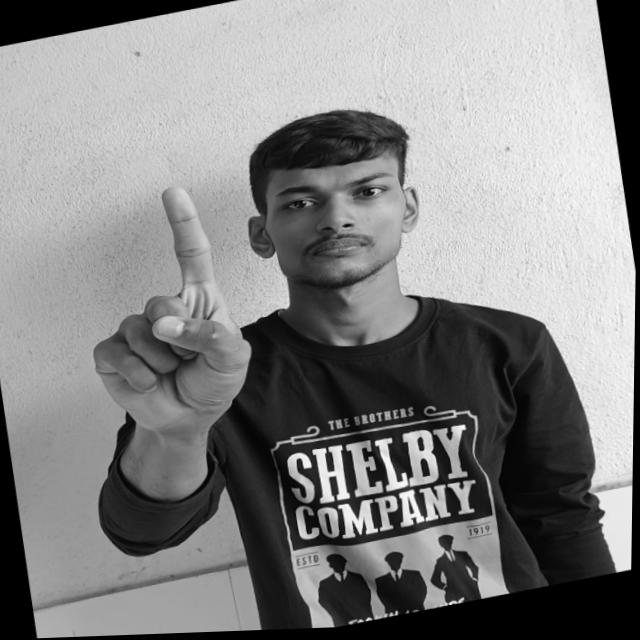Question: (62, 174, 271, 447)
